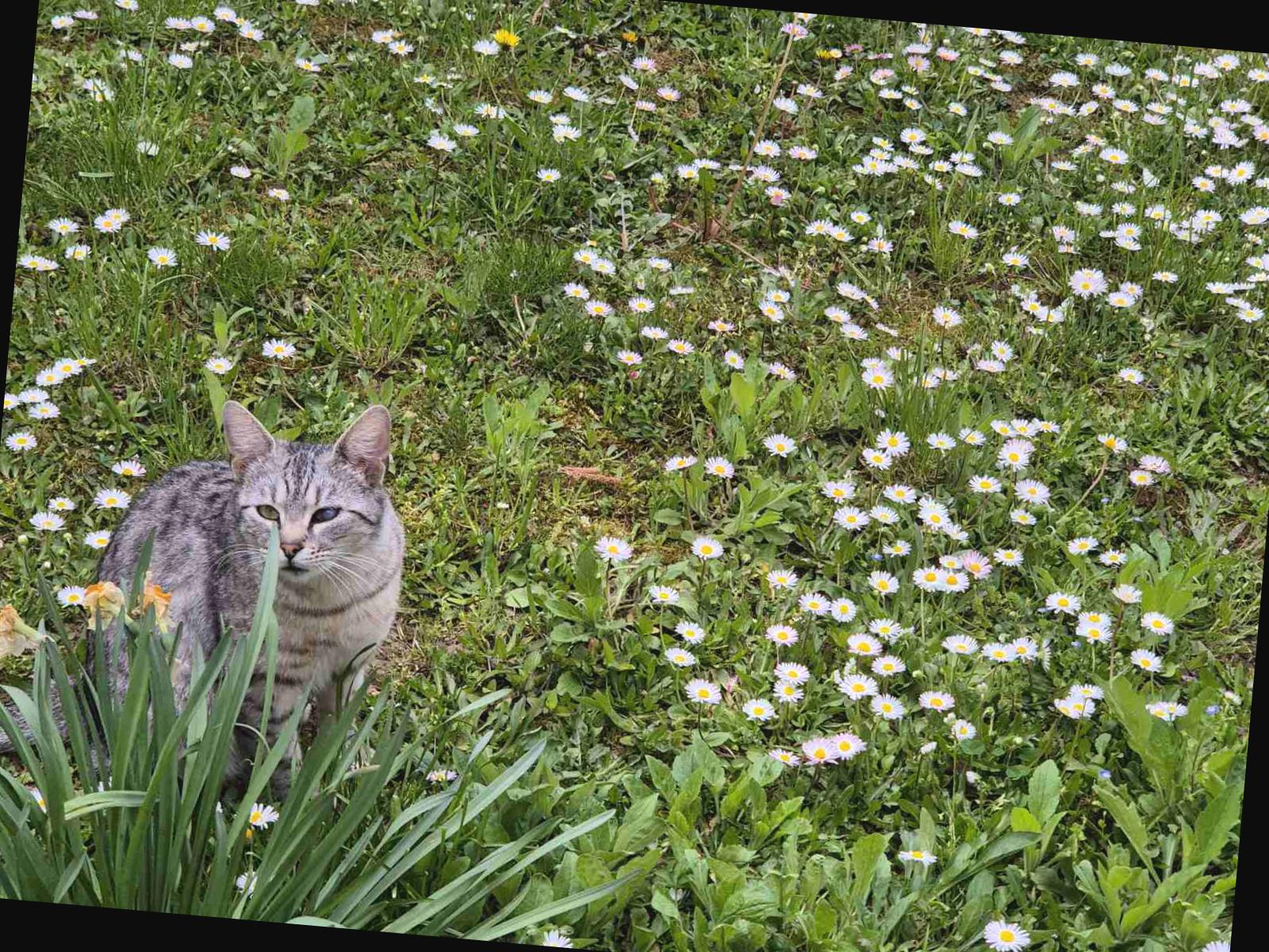macka: (0, 370, 417, 886)
